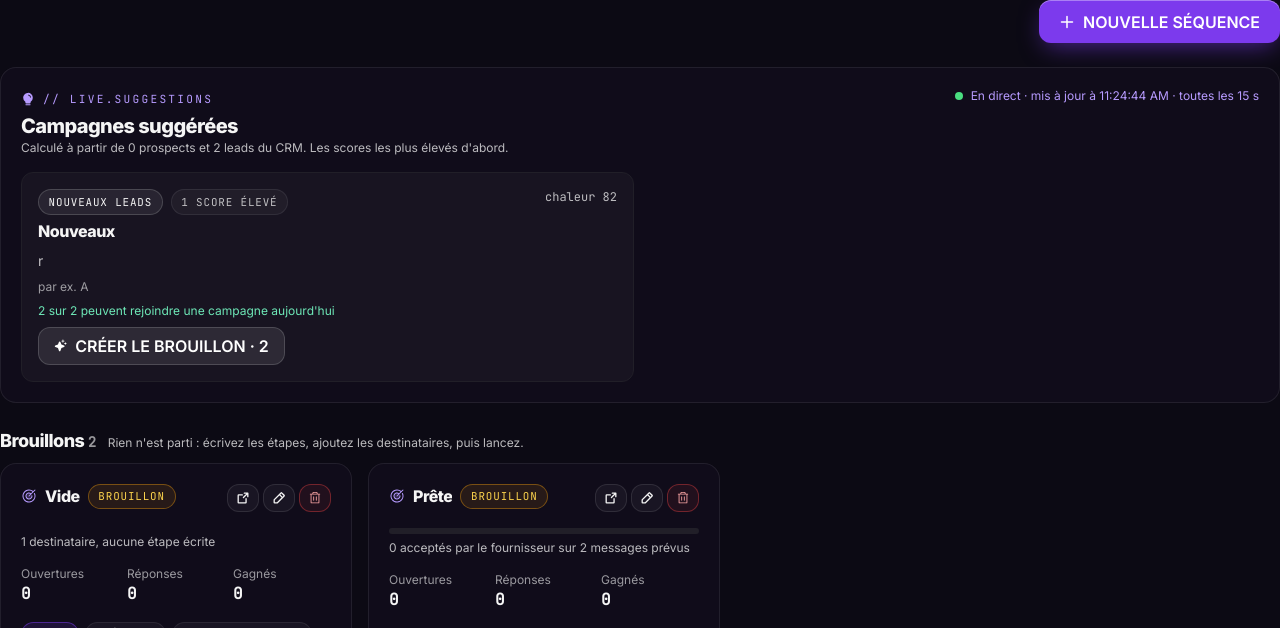
Scenario: creating a draft from a suggestion opens that draft at once; a heat ranking is never called hot
The width and height of the screenshot is (1280, 628).
Click the button "CRÉER LE BROUILLON · 2" at (161,346), box [38,326,285,364]
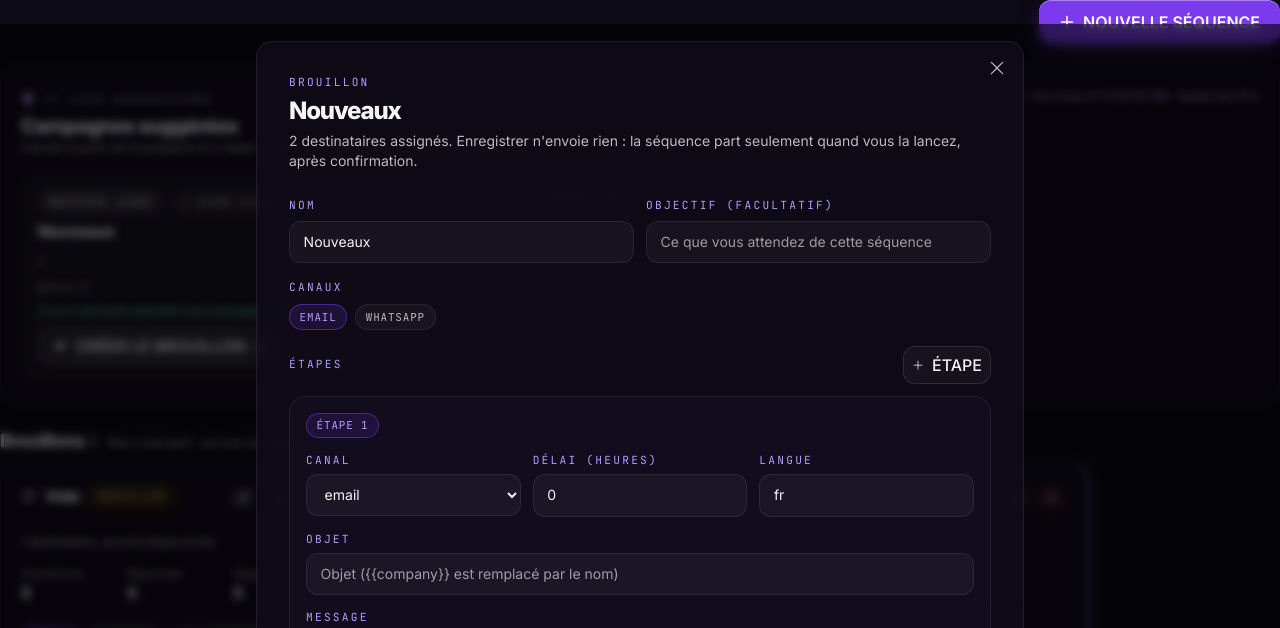
Check: the heading "Nouveaux" is shown, box [289,96,400,125]
